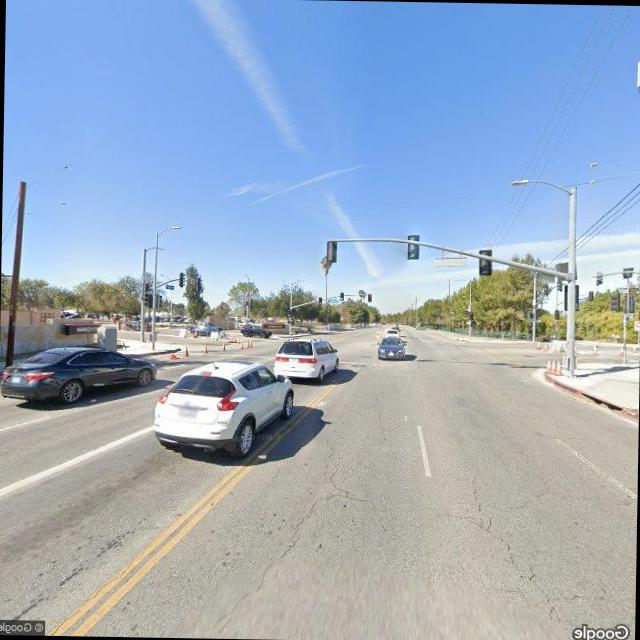crack: (271, 431, 397, 556)
pothole: (456, 472, 570, 620), (49, 541, 150, 636), (493, 419, 552, 494)
